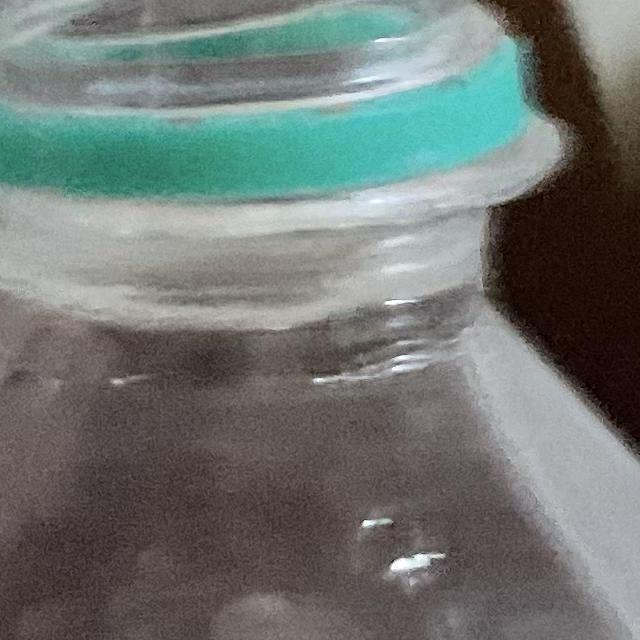open-cap: (0, 0, 532, 175)
